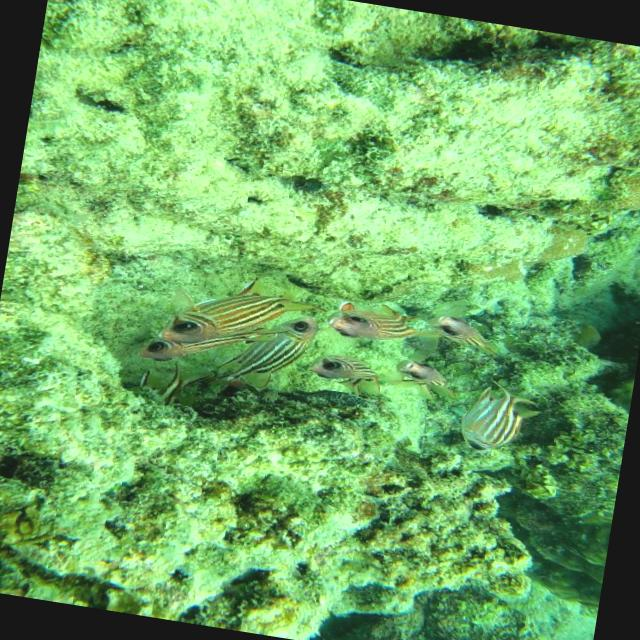Asker Baligi: (141, 266, 307, 358), (199, 304, 327, 394), (454, 376, 546, 462), (327, 297, 417, 353), (302, 343, 382, 404), (425, 306, 496, 353), (382, 352, 438, 399)
